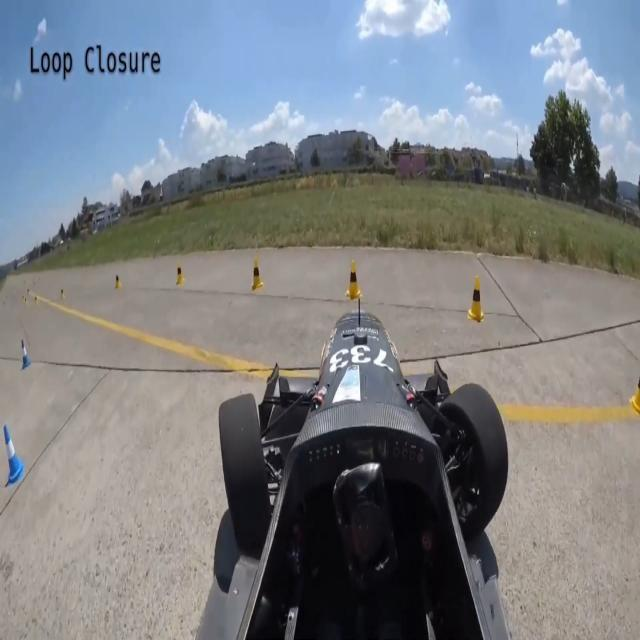blue_cone: (4, 425, 24, 487), (20, 339, 30, 370)
yellow_cone: (466, 275, 486, 322), (346, 259, 362, 300), (251, 258, 264, 290)
